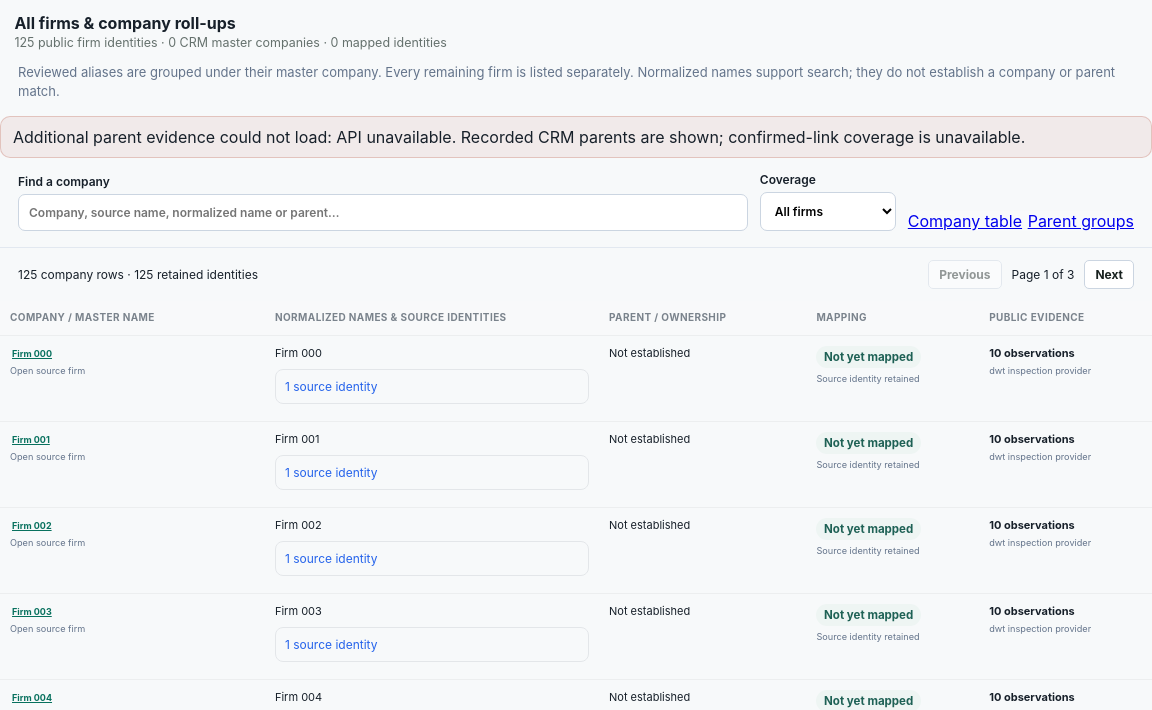
pagination and coverage filters include firms beyond the first page; evidence failure never empties the directory
Expected: the message shows "API unavailable", [336,127,452,147]
Click the button "Next" at (1109, 274), box [1084,260,1134,289]
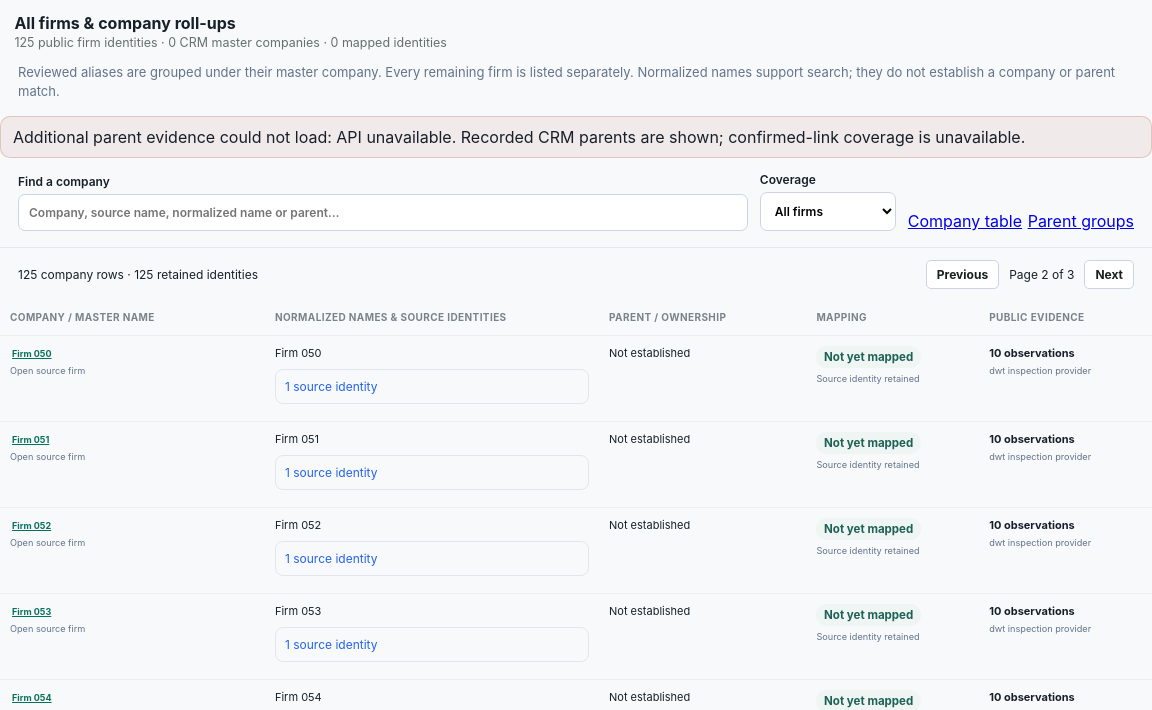
Result: the link "Firm 050" is shown at [10,346,54,362]
Type "Firm 124" into the field named "Search all firms" at (383, 212), box [18,194,748,231]
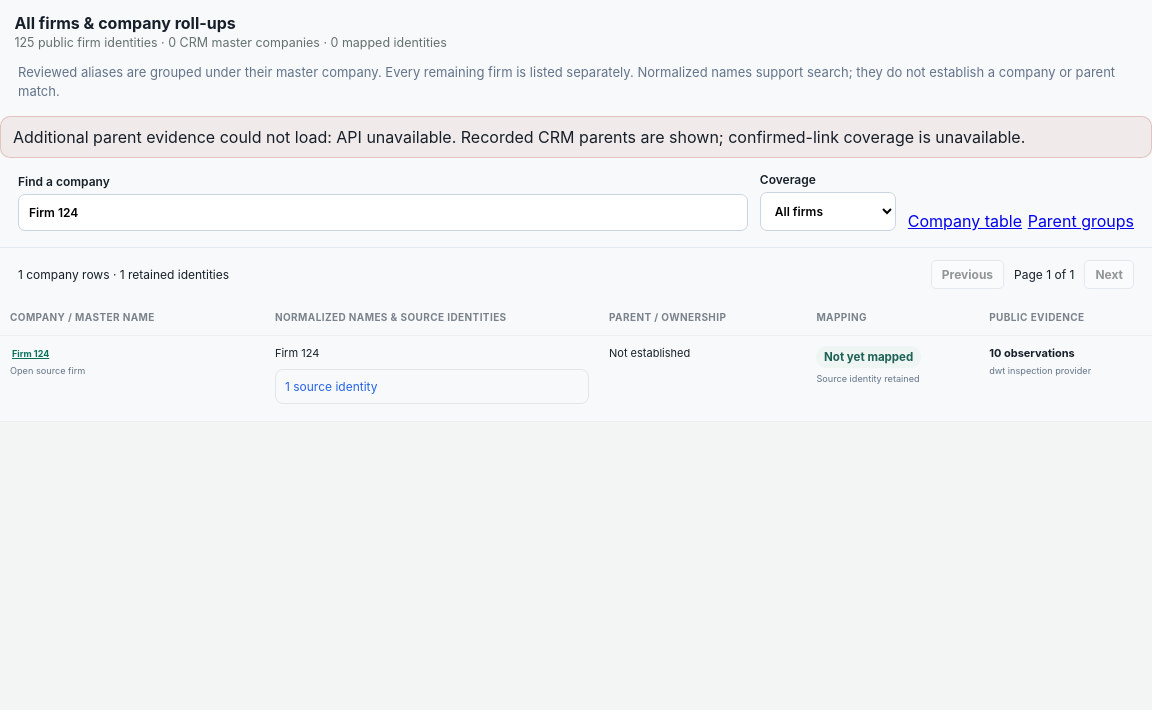
Expected: the message shows "API unavailable", [336,127,452,147]
Result: the link "Firm 124" is shown at [10,346,51,362]
Select "Mapped to CRM" in the dropdown named "Firm mapping coverage" at (828, 212), box [760,192,896,231]
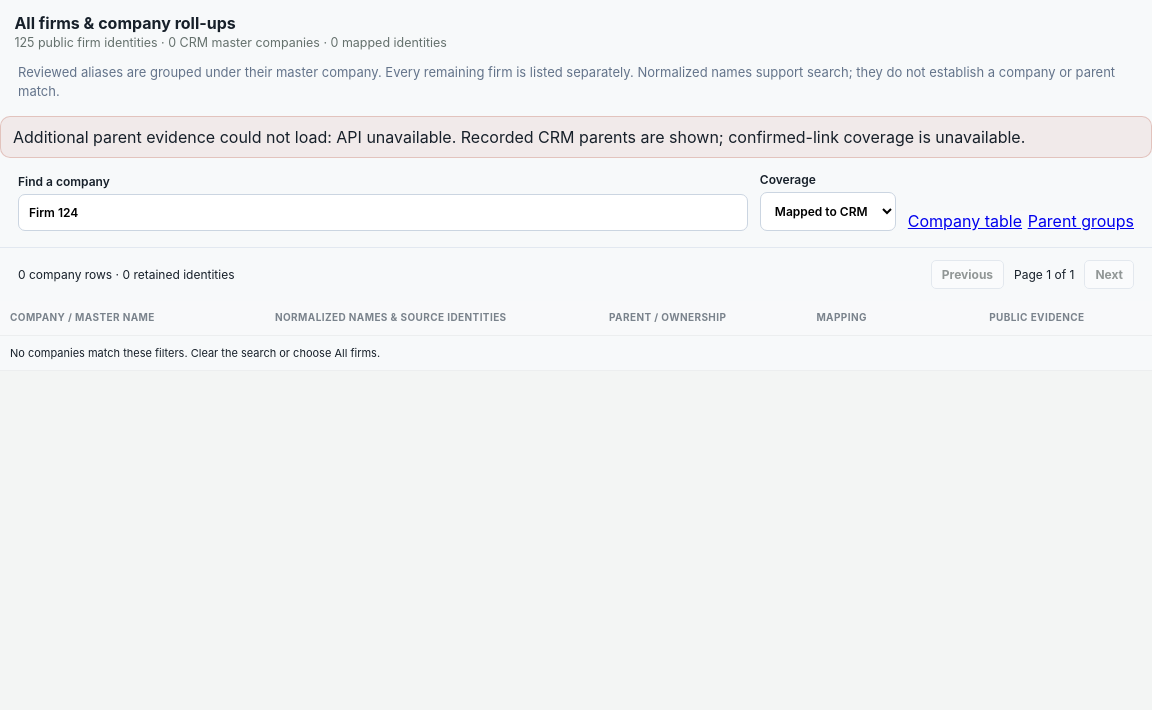
Result: the text "No companies match" is shown at [10,346,380,360]
